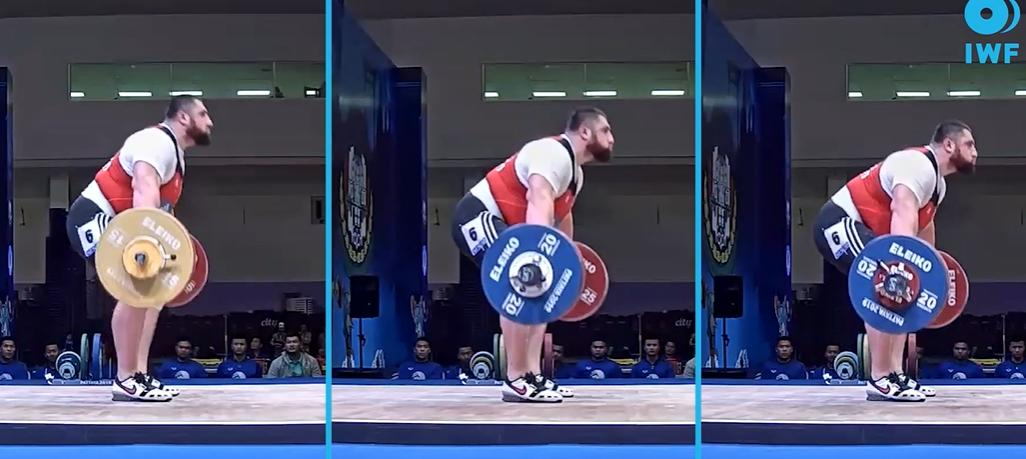Barbell: (504, 245, 560, 304), (870, 260, 924, 312), (120, 233, 170, 284)
